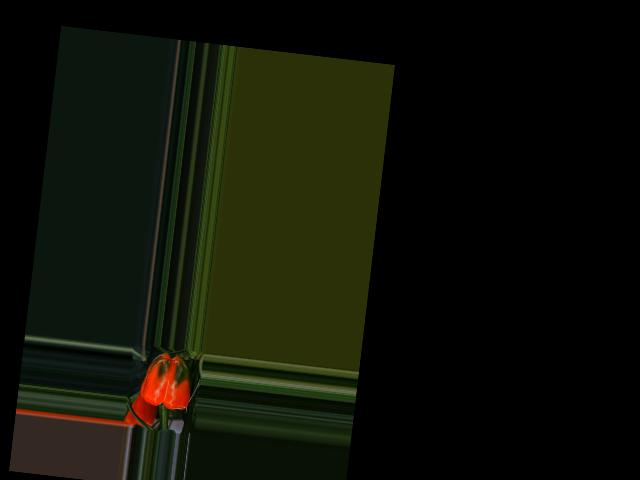bell_pepper: (135, 346, 201, 418)
